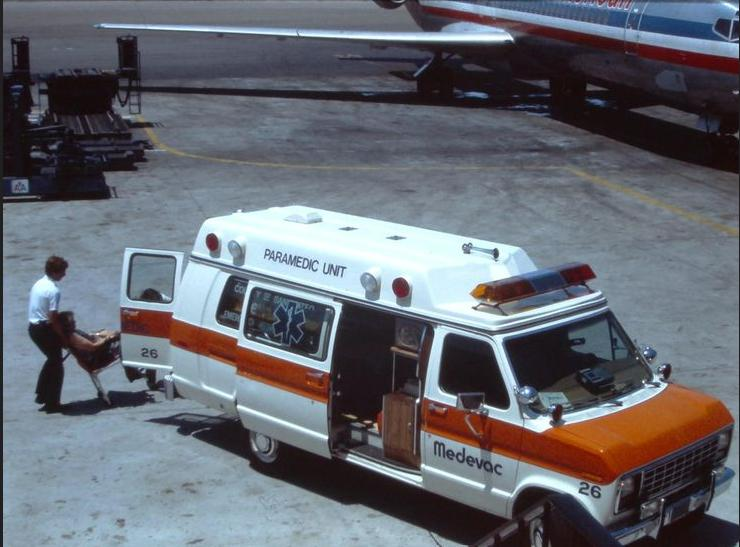ambulance_off: (122, 206, 735, 547)
